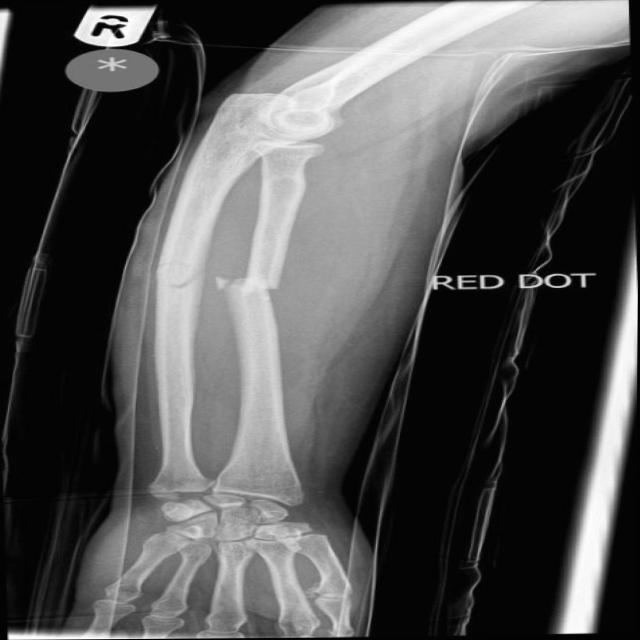Transverse Displaced: (156, 255, 218, 315), (227, 267, 293, 312)
